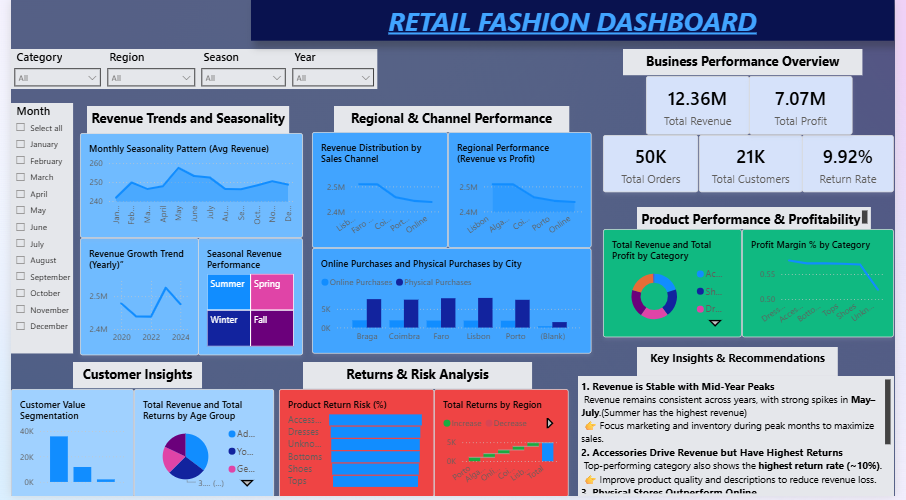

The page's visual inventory and layout, read from the dashboard file:
{"tool":"powerbi","page":{"name":"Page 1","canvas":[1280,720],"ordinal":0},"visuals":[{"type":"slicer","fields":{"Values":["Sales_Analysis.Date.Variation.Date Hierarchy.Year"]},"box":[403.3,71.7,128.3,58.3],"z":0},{"type":"slicer","fields":{"Values":["Sales_Analysis.Date.Variation.Date Hierarchy.Month"]},"box":[0,150,90,363.3],"z":1000},{"type":"slicer","fields":{"Values":["Sales_Analysis.Category"]},"box":[0,71.7,135,58.3],"z":2000},{"type":"slicer","fields":{"Values":["Sales_Analysis.Region"]},"box":[135,71.7,136.7,58.3],"z":3000},{"type":"slicer","fields":{"Values":["Sales_Analysis.Season"]},"box":[271.7,71.7,131.7,58.3],"z":4000},{"type":"card","fields":{"Values":["Sales_Analysis.Total Revenue"]},"box":[920,110,150,85],"z":5000},{"type":"card","fields":{"Values":["Sales_Analysis.Total Orders"]},"box":[858.3,195,138.3,83.3],"z":6000},{"type":"card","fields":{"Values":["Sales_Analysis.Total Customers"]},"box":[996.7,195,150,83.3],"z":7000},{"type":"card","fields":{"Values":["Sales_Analysis.Return Rate"]},"box":[1146.7,195,133.3,83.3],"z":8000},{"type":"card","fields":{"Values":["Sales_Analysis.Total Profit"]},"box":[1070,110,150,85],"z":9000},{"type":"areaChart","title":"Regional Performance (Revenue vs Profit)","fields":{"Category":["Sales_Analysis.Region"],"Y":["Sales_Analysis.Total Revenue"]},"box":[633.3,191.7,208.3,168.3],"z":10000},{"type":"lineChart","title":"Revenue Growth Trend (Yearly)”","fields":{"Category":["Sales_Analysis.Date.Variation.Date Hierarchy.Year","Sales_Analysis.Date.Variation.Date Hierarchy.Quarter","Sales_Analysis.Date.Variation.Date Hierarchy.Month","Sales_Analysis.Date.Variation.Date Hierarchy.Day"],"Y":["Sales_Analysis.Total Revenue"]},"box":[100,345,171.7,170],"z":11000},{"type":"donutChart","fields":{"Category":["Sales_Analysis.Category"],"Y":["Sales_Analysis.Total Revenue"]},"box":[858,331.9,201.4,156.5],"z":12000},{"type":"lineChart","title":"Revenue Distribution by Sales Channel","fields":{"Category":["Sales_Analysis.StoreName"],"Y":["Sales_Analysis.Total Revenue"]},"box":[436.7,191.7,196.7,168.3],"z":13000},{"type":"treemap","title":"Seasonal Revenue Performance","fields":{"Group":["Sales_Analysis.Season"],"Values":["Sales_Analysis.Total Revenue"]},"box":[271.7,345,151.7,170],"z":14000},{"type":"clusteredColumnChart","title":"Customer Value Segmentation","fields":{"Category":["Sales_Analysis.Customer Segment"],"Y":["CountNonNull(Sales_Analysis.CustomerID)"]},"box":[0,563.3,178.3,156.7],"z":15000},{"type":"lineClusteredColumnComboChart","fields":{"Y":["Sales_Analysis.Online Purchases","Sales_Analysis.Physical Purchases"],"Category":["Sales_Analysis.City"]},"box":[436.7,360,405,153.3],"z":16000},{"type":"funnel","title":"Product Return Risk (%)","fields":{"Category":["Sales_Analysis.Category"],"Y":["Sales_Analysis.Return Rate"]},"box":[388.3,563.3,225,156.7],"z":17000},{"type":"waterfallChart","fields":{"Category":["Sales_Analysis.Region"],"Y":["Sales_Analysis.Total Returns"]},"box":[613.3,563.3,195,156.7],"z":18000},{"type":"stackedAreaChart","title":"Monthly Seasonality Pattern (Avg Revenue)","fields":{"Category":["Sales_Analysis.Date.Variation.Date Hierarchy.Month"],"Y":["Sales_Analysis.Avg Revenue"]},"box":[100,193.3,323.3,151.7],"z":19000},{"type":"pieChart","fields":{"Category":["Sales_Analysis.Age Group"],"Y":["Sales_Analysis.Total Revenue"]},"box":[178.3,563.3,203.3,156.7],"z":20000},{"type":"lineChart","fields":{"Category":["Sales_Analysis.Category"],"Y":["Sales_Analysis.Profit Margin %"]},"box":[1059.4,331.9,220.3,156.5],"z":21000},{"type":"textbox","title":"RETAIL FASHION DASHBOARD","box":[239.1,0,788.4,59.4],"z":22000},{"type":"textbox","box":[907.2,300,339.1,31.9],"z":23000},{"type":"textbox","box":[110,153.3,293.3,40],"z":24000},{"type":"textbox","box":[90,525,186.7,38.3],"z":25000},{"type":"textbox","box":[468.1,153.6,340.6,37.7],"z":26000},{"type":"textbox","box":[423.2,524.6,331.9,39.1],"z":27000},{"type":"textbox","box":[886.7,71.7,346.7,38.3],"z":28000},{"type":"textbox","box":[821.7,544.9,458,175.4],"z":29000},{"type":"textbox","box":[907.2,502.9,291.3,42],"z":29001}]}

Visuals, with their boxes in screenshot pixels (x1, y1, x2, y2), scaled from the page's 1280x720 canvas onto the 906x500 screenshot:
slicer - Sales_Analysis.Date.Variation.Date Hierarchy.Year: x1=285, y1=50, x2=376, y2=90
slicer - Sales_Analysis.Date.Variation.Date Hierarchy.Month: x1=0, y1=104, x2=64, y2=356
slicer - Sales_Analysis.Category: x1=0, y1=50, x2=96, y2=90
slicer - Sales_Analysis.Region: x1=96, y1=50, x2=192, y2=90
slicer - Sales_Analysis.Season: x1=192, y1=50, x2=286, y2=90
card - Sales_Analysis.Total Revenue: x1=651, y1=76, x2=757, y2=135
card - Sales_Analysis.Total Orders: x1=608, y1=135, x2=705, y2=193
card - Sales_Analysis.Total Customers: x1=705, y1=135, x2=812, y2=193
card - Sales_Analysis.Return Rate: x1=812, y1=135, x2=905, y2=193
card - Sales_Analysis.Total Profit: x1=757, y1=76, x2=864, y2=135
"Regional Performance (Revenue vs Profit)" areaChart: x1=448, y1=133, x2=596, y2=250
"Revenue Growth Trend (Yearly)”" lineChart: x1=71, y1=240, x2=192, y2=358
donutChart - Sales_Analysis.Category x Sales_Analysis.Total Revenue: x1=607, y1=230, x2=750, y2=339
"Revenue Distribution by Sales Channel" lineChart: x1=309, y1=133, x2=448, y2=250
"Seasonal Revenue Performance" treemap: x1=192, y1=240, x2=300, y2=358
"Customer Value Segmentation" clusteredColumnChart: x1=0, y1=391, x2=126, y2=499
lineClusteredColumnComboChart - Sales_Analysis.Online Purchases x Sales_Analysis.Physical Purchases: x1=309, y1=250, x2=596, y2=356
"Product Return Risk (%)" funnel: x1=275, y1=391, x2=434, y2=499
waterfallChart - Sales_Analysis.Region x Sales_Analysis.Total Returns: x1=434, y1=391, x2=572, y2=499
"Monthly Seasonality Pattern (Avg Revenue)" stackedAreaChart: x1=71, y1=134, x2=300, y2=240
pieChart - Sales_Analysis.Age Group x Sales_Analysis.Total Revenue: x1=126, y1=391, x2=270, y2=499
lineChart - Sales_Analysis.Category x Sales_Analysis.Profit Margin %: x1=750, y1=230, x2=905, y2=339
"RETAIL FASHION DASHBOARD" textbox: x1=169, y1=0, x2=727, y2=41
textbox: x1=642, y1=208, x2=882, y2=230
textbox: x1=78, y1=106, x2=285, y2=134
textbox: x1=64, y1=365, x2=196, y2=391
textbox: x1=331, y1=107, x2=572, y2=133
textbox: x1=300, y1=364, x2=534, y2=391
textbox: x1=628, y1=50, x2=873, y2=76
textbox: x1=582, y1=378, x2=905, y2=499
textbox: x1=642, y1=349, x2=848, y2=378
